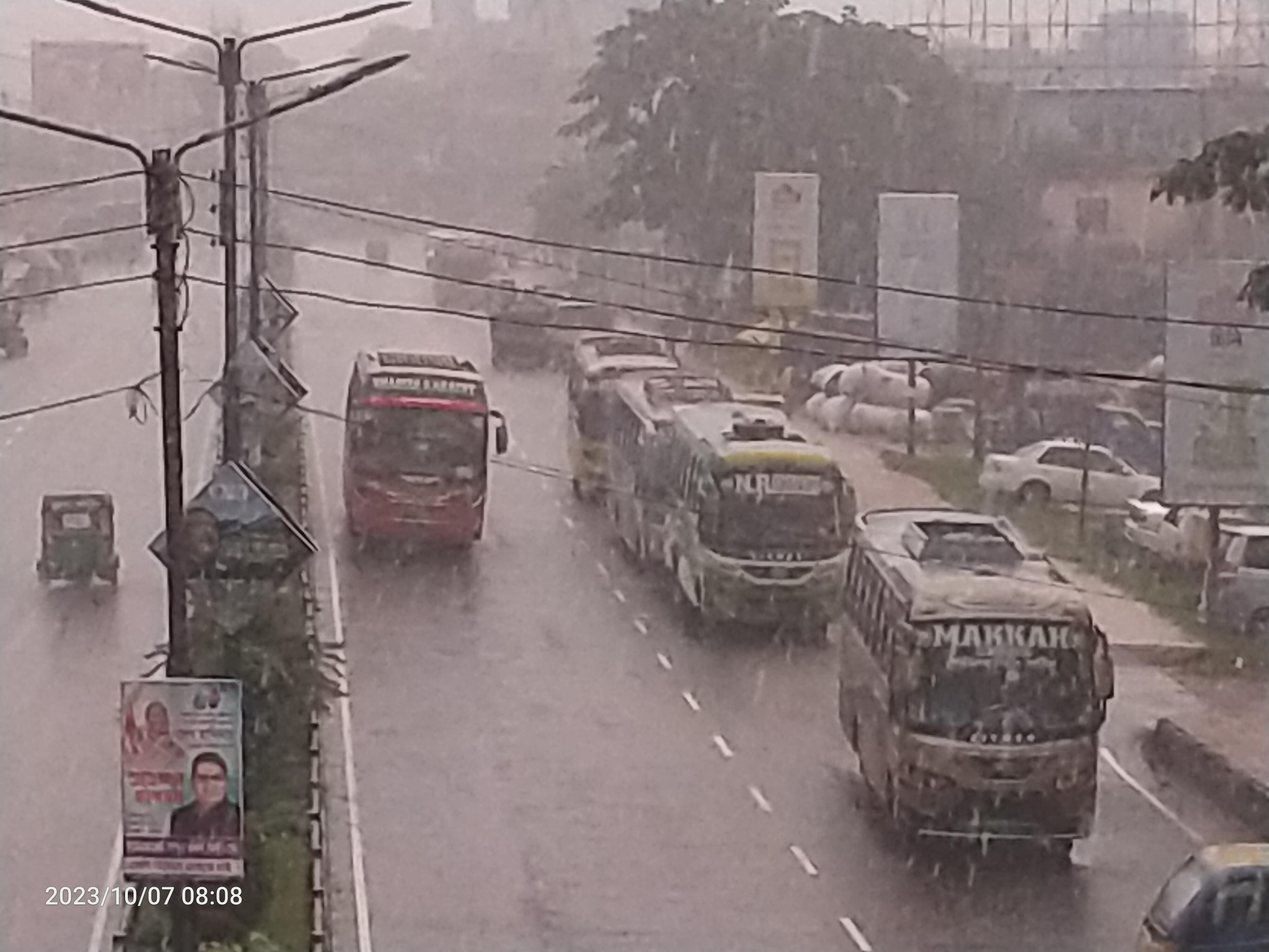Bus: (804, 497, 1156, 902), (639, 379, 861, 657), (311, 329, 529, 581), (585, 358, 714, 586)
Car: (953, 430, 1180, 527), (1187, 494, 1269, 654), (1116, 465, 1225, 577)
Truck: (1127, 826, 1269, 952)
